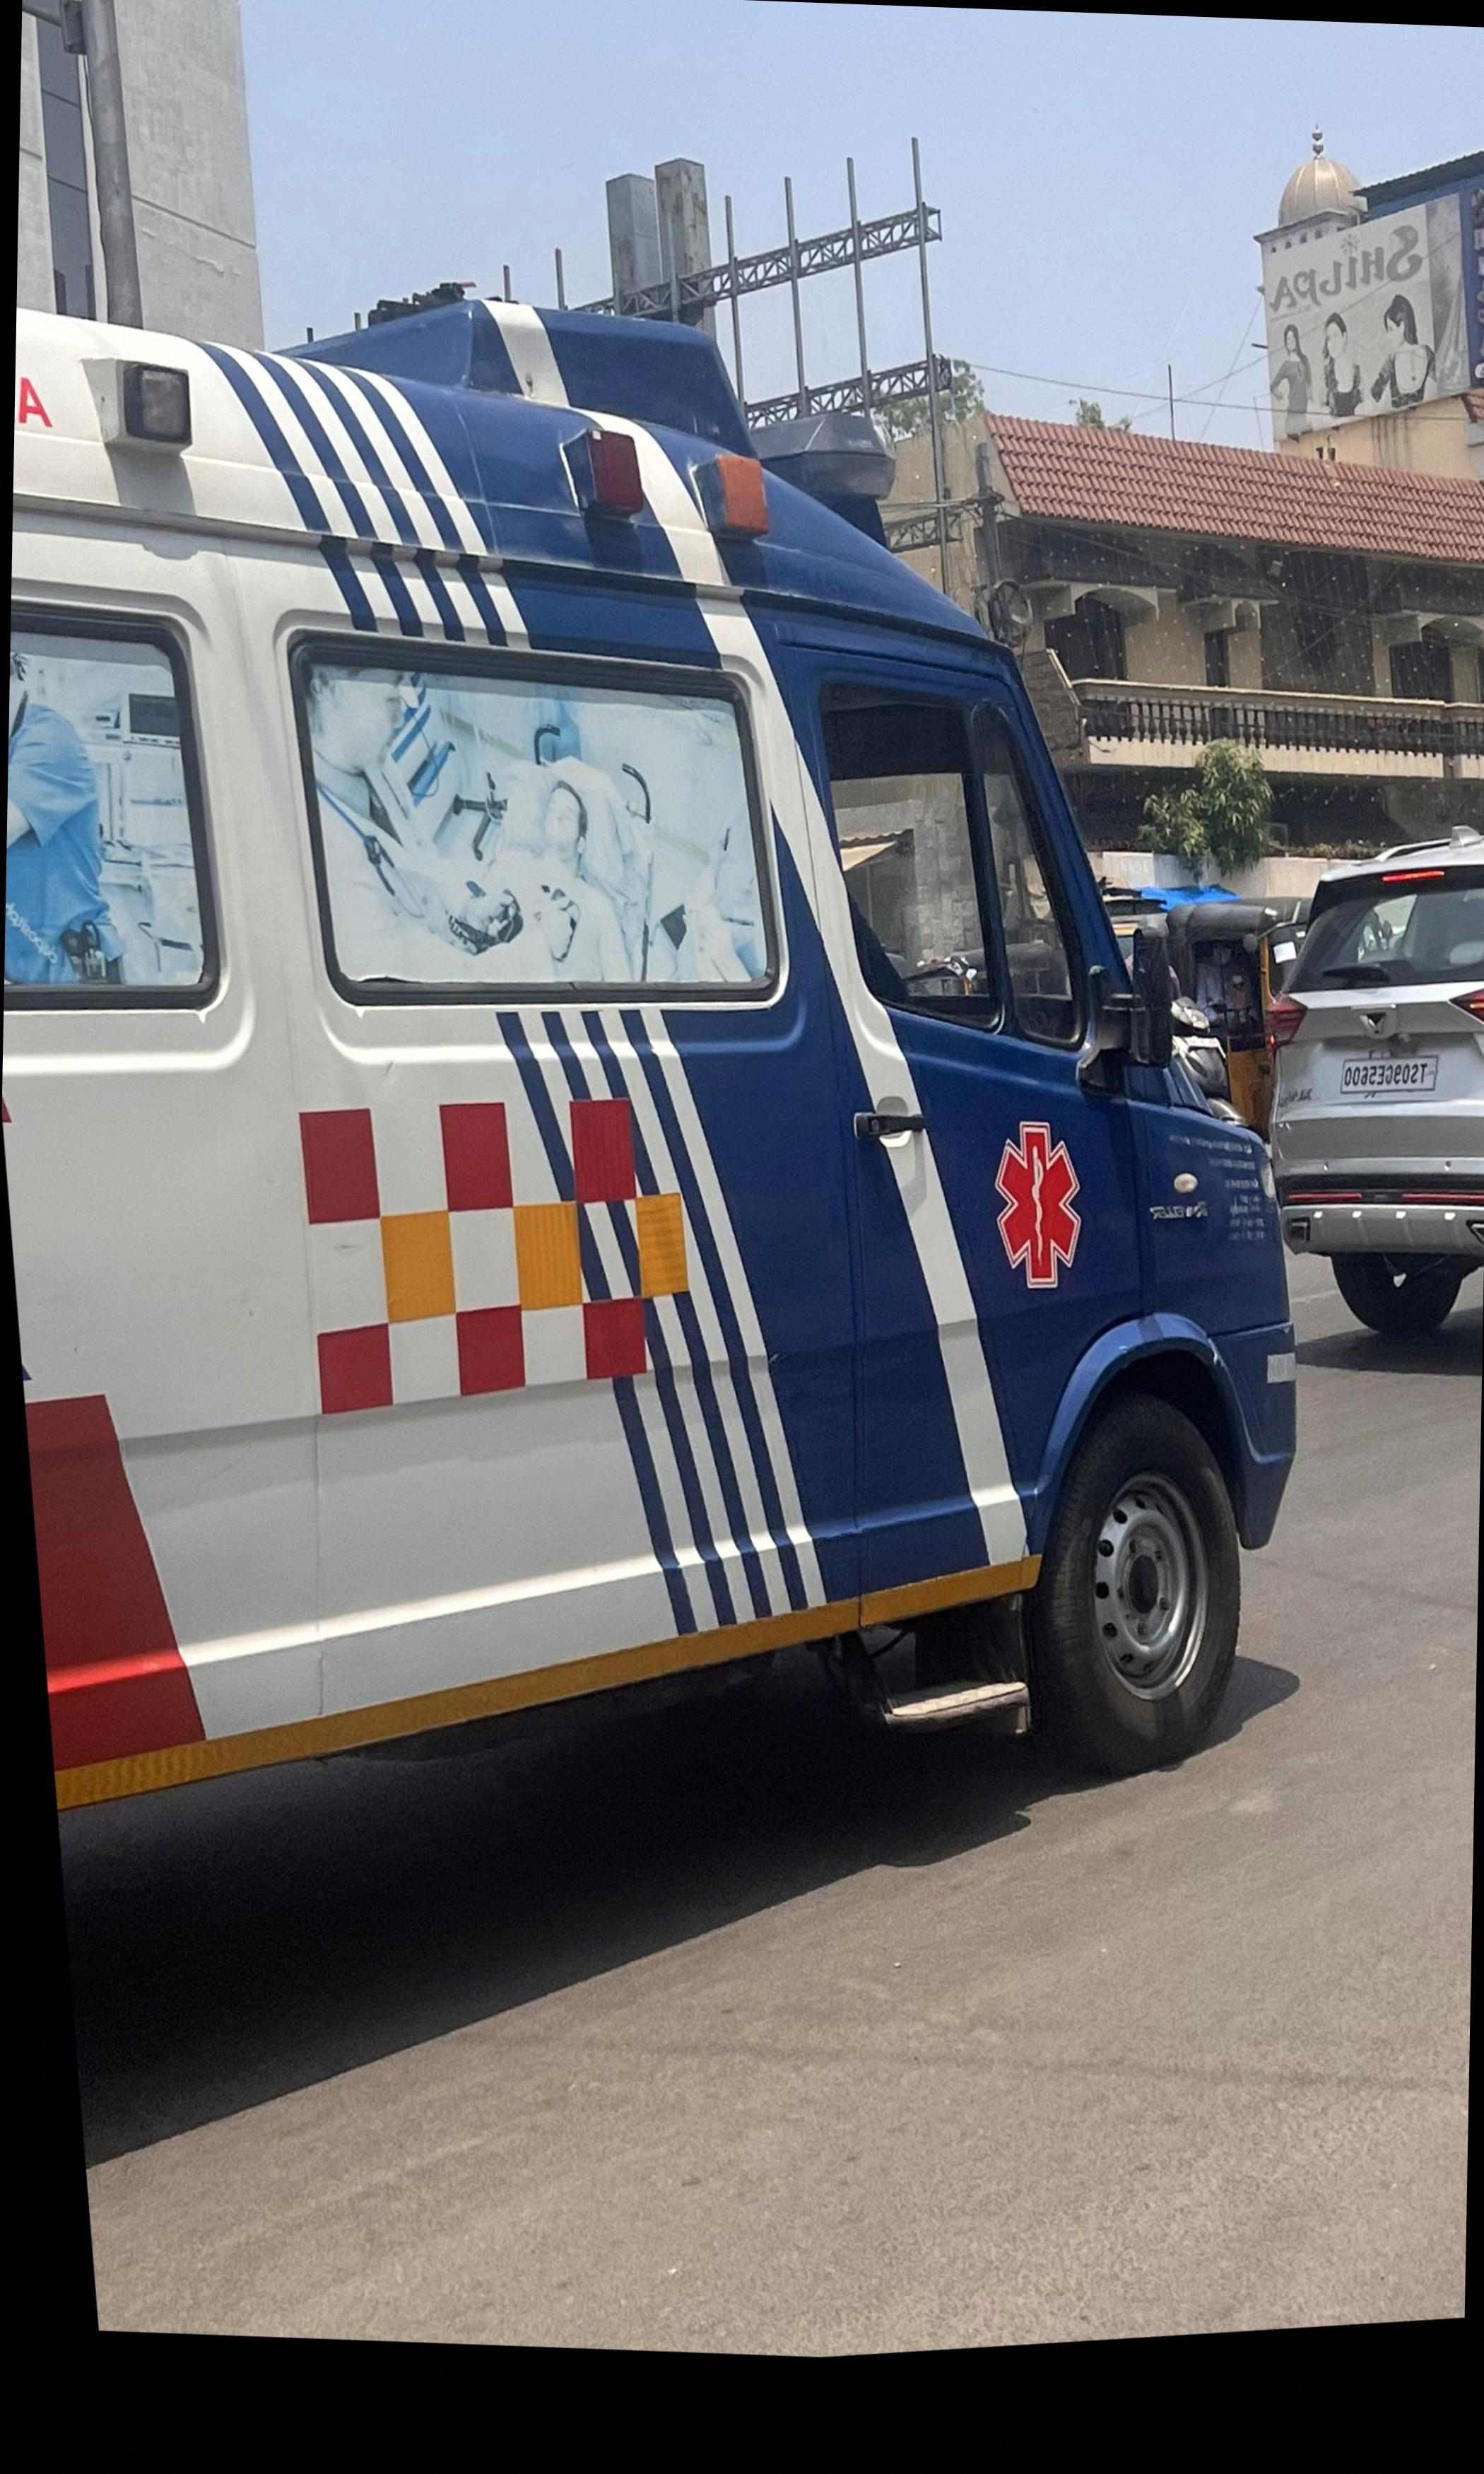ambulance: (25, 300, 1283, 1818)
